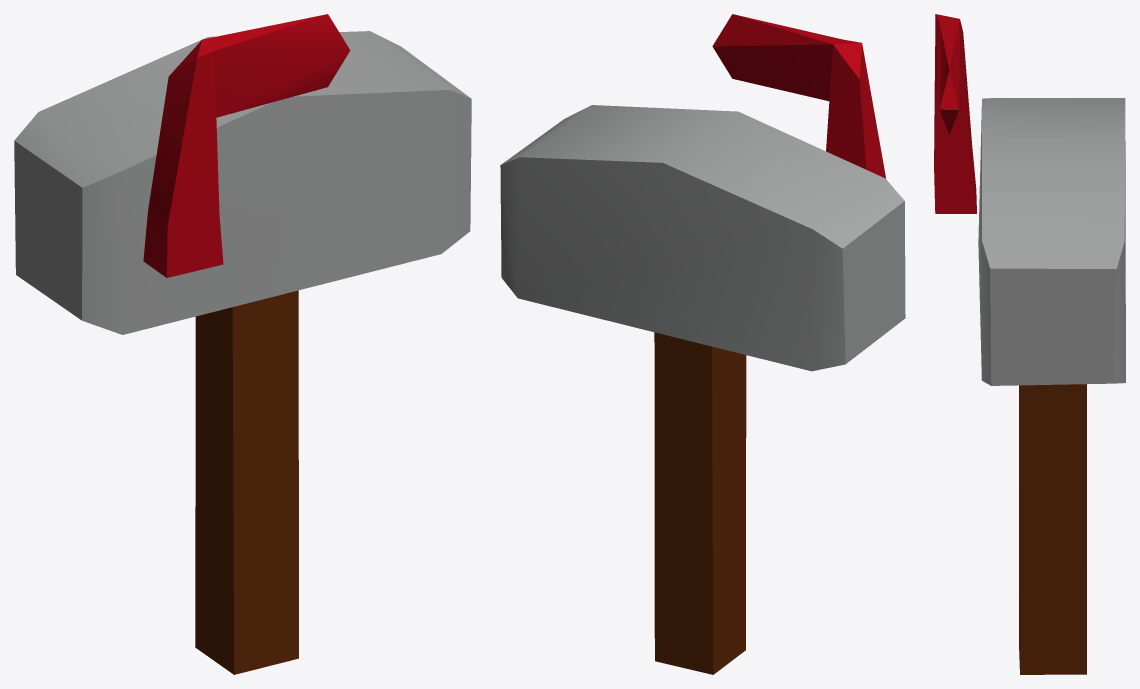
The model's file is Mailbox 1.fbx.
The picture shows the model from 3 angles, left to right: view 1: azimuth 30°, elevation 25°; view 2: azimuth 150°, elevation 25°; view 3: azimuth 270°, elevation 25°; orthographic projection. The views are drawn at different scales.
Visible parts, largest first — view 1: Mailbox_01; view 2: Mailbox_01; view 3: Mailbox_01.
Boxes of the visible parts, box(x1,y1,x2,y2) form: Mailbox_01: box(14, 14, 471, 674); Mailbox_01: box(500, 14, 905, 674); Mailbox_01: box(934, 14, 1125, 674).
Bounding box in the file's own units: 49.8 × 82.73 × 23.99.
